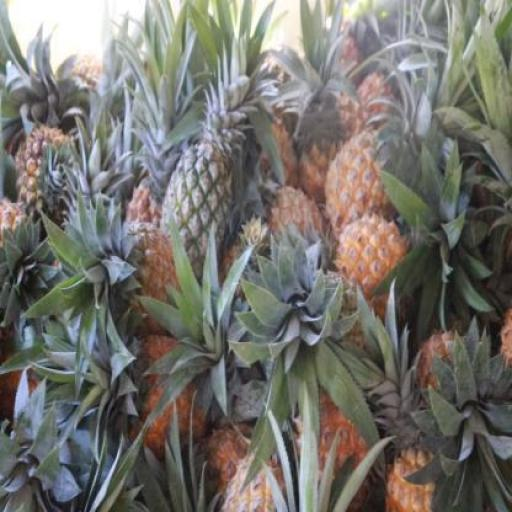Pineapple - v8 v1: (327, 140, 398, 242), (337, 219, 409, 307)
